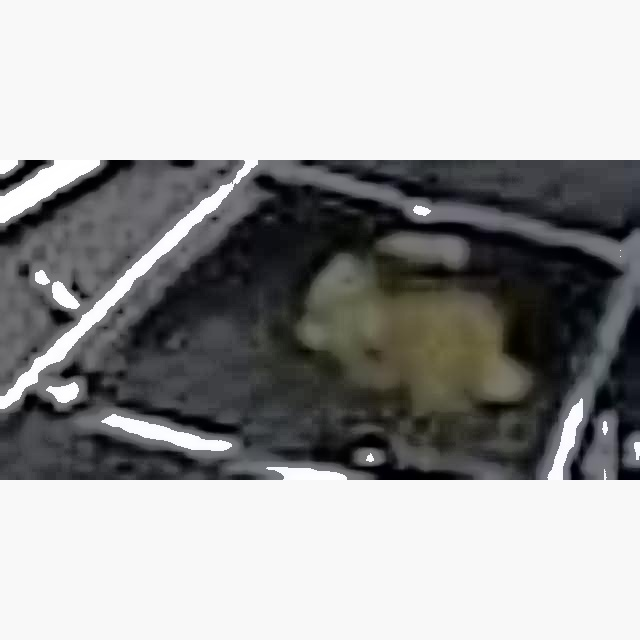tidak-pakai: (265, 238, 546, 410)
